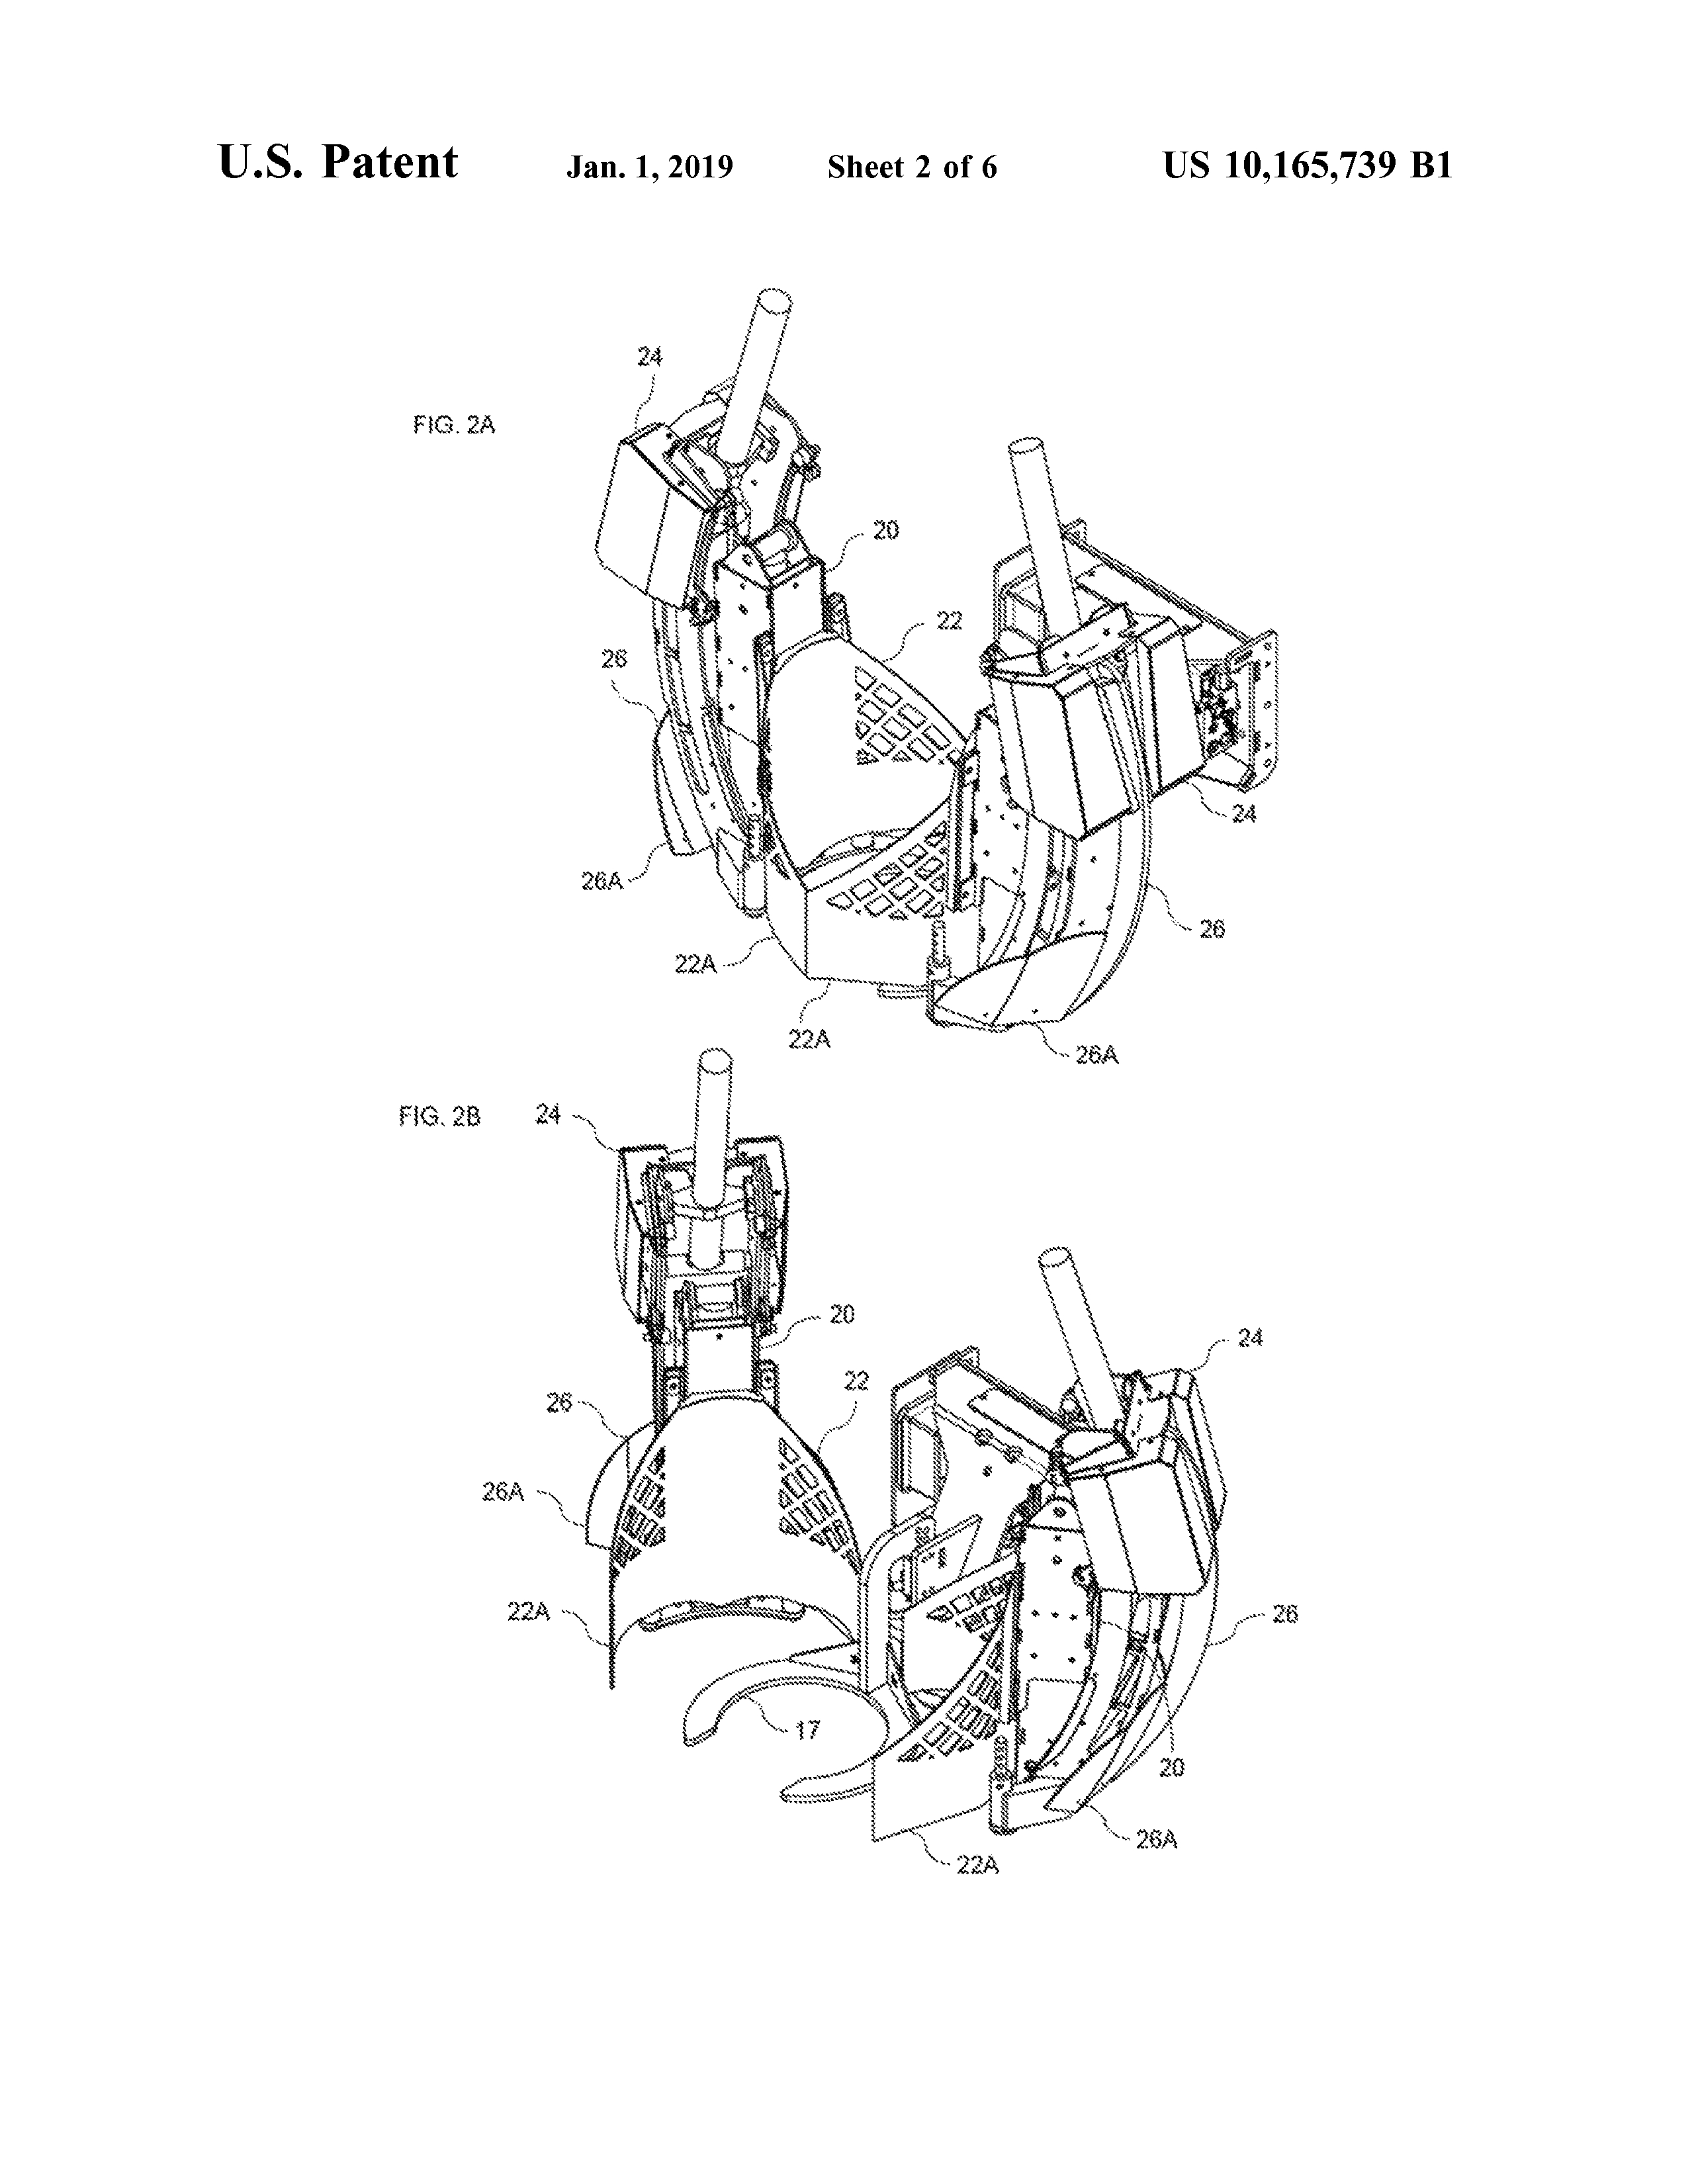patent image: (374, 1050, 1361, 1917), (399, 256, 1317, 1067)
